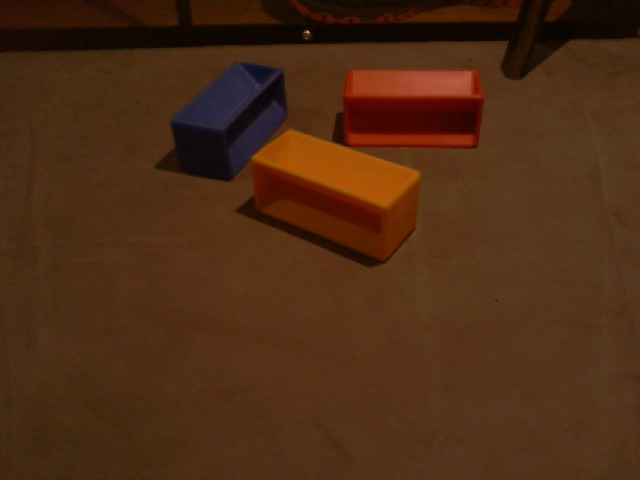BlueSample: (169, 60, 289, 183)
RedSample: (341, 63, 487, 150)
YellowSample: (250, 128, 422, 263)
